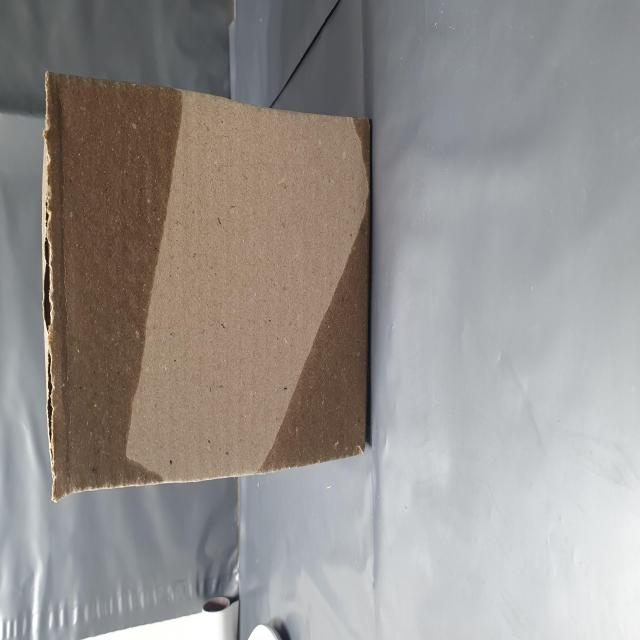wet: (77, 82, 314, 640)
